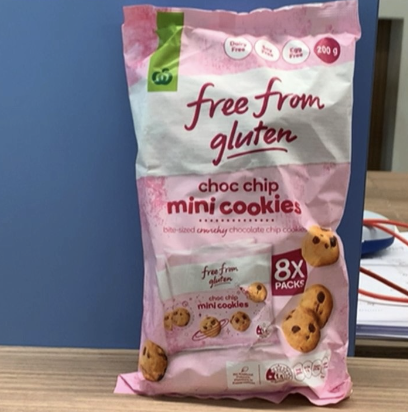cookies_200g-299g: (148, 55, 338, 381)
